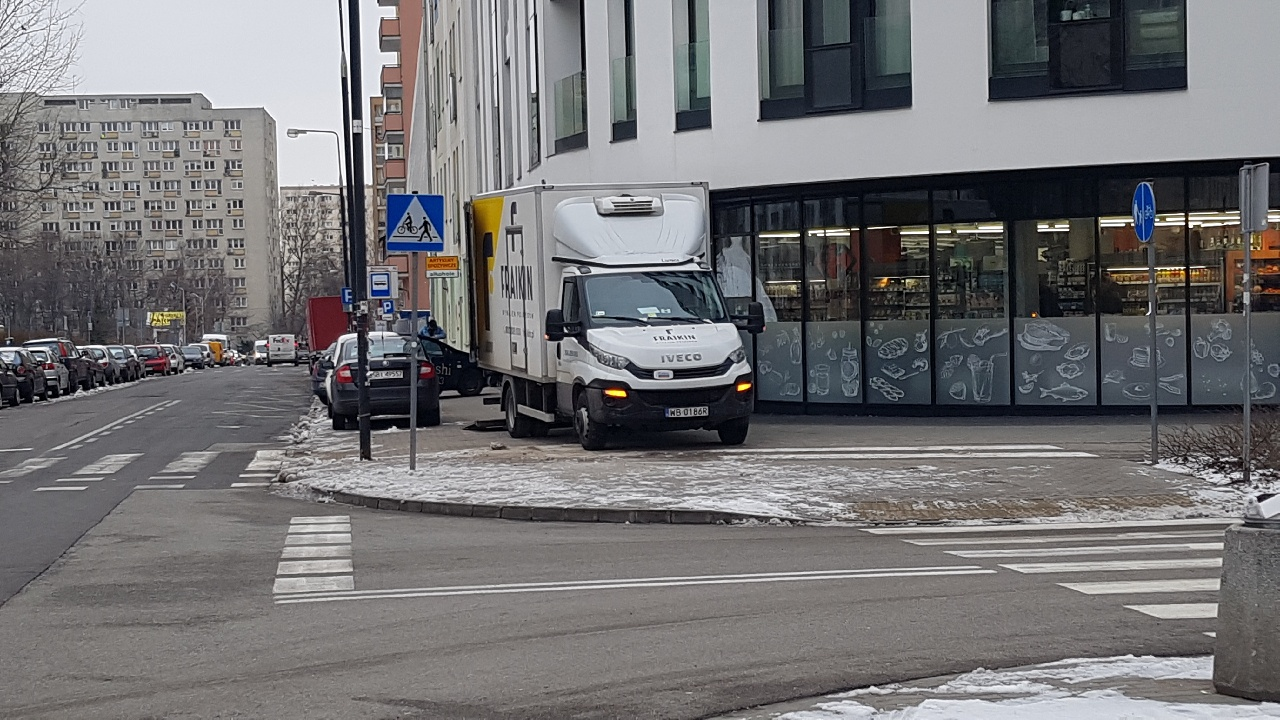D6b: (379, 188, 449, 252)
